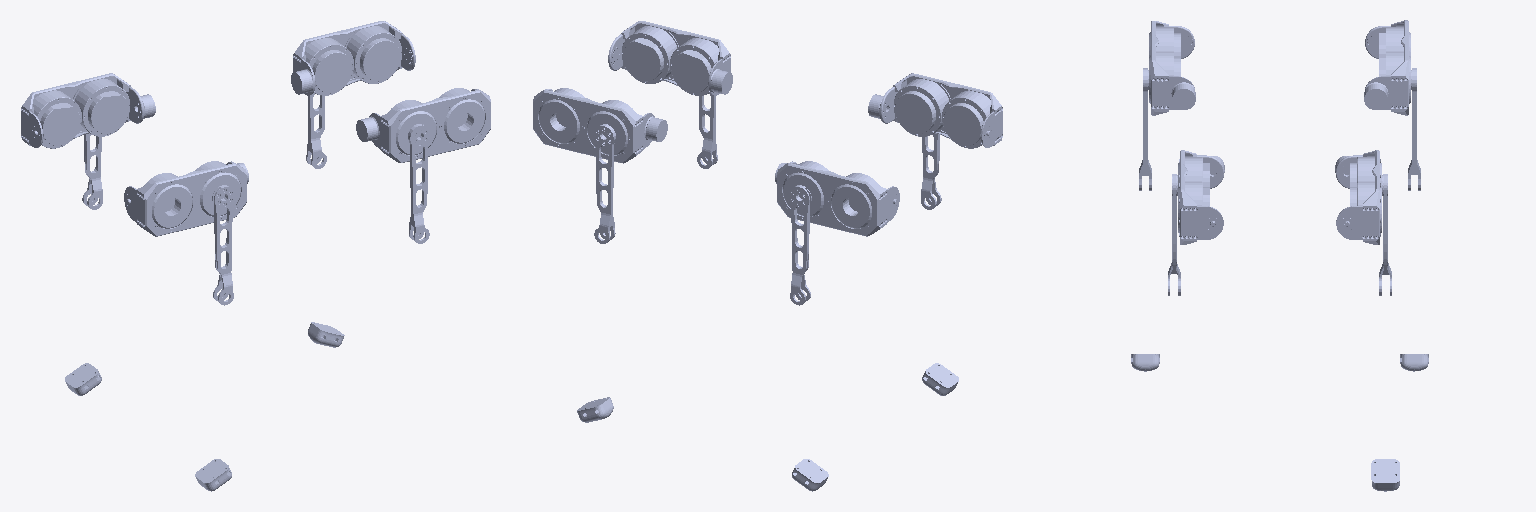
The robot description file, URDF, robot "olympus_description":
<?xml version="1.0" ?>
<robot
  name="olympus_description">

  <link
    name="Body">
    <inertial>
      <origin
        xyz="-0.0093903 0.00018696 0.011109"
        rpy="0 0 0" />
      <mass
        value="5.679" />
      <inertia
        ixx="0.05428615"
        ixy="-0.00110179"
        ixz="-0.0017034"
        iyy="0.15070598"
        iyz="0.00013585"
        izz="0.19574722" />
    </inertial>
    <visual>
      <origin
        xyz="0 0 0"
        rpy="0 0 0" />
      <geometry>
        <mesh
          filename="package://olympus_description/urdf/meshes/Body.STL" />
      </geometry>
      <material
        name="">
        <color
          rgba="0.79216 0.81961 0.93333 1" />
      </material>
    </visual>
    <collision>
      <origin
        xyz="0 0 0"
        rpy="0 0 0" />
      <geometry>
        <mesh
          filename="package://olympus_description/urdf/meshes/Body.STL" />
      </geometry>
    </collision>
  </link>
  



  
  
  <!---

  

  <joint name="world_joint" type="fixed" >
    <origin
          xyz="0 0 0"
          rpy="0 0 0" />
      <parent
        link="world" />
      <child
        link="Body" />
  </joint>
  -->
  
  <link
    name="FrontLeft_motorHousing">
    <inertial>
      <origin
        xyz="0.092829 0.02913 0.00023828"
        rpy="0 0 0" />
      <mass
        value="1.437" />
      <inertia
        ixx="0.00232895"
        ixy="0.00418147"
        ixz="3.194E-05"
        iyy="0.01861991"
        iyz="4.4E-06"
        izz="0.01948836" />
    </inertial>
    <visual>
      <origin
        xyz="0 0 0"
        rpy="0 0 0" />
      <geometry>
        <mesh
          filename="package://olympus_description/urdf/meshes/FrontLeft_motorHousing.STL" />
      </geometry>
      <material
        name="">
        <color
          rgba="0.79216 0.81961 0.93333 1" />
      </material>
    </visual>
    <collision>
      <origin
        xyz="0 0 0"
        rpy="0 0 0" />
      <geometry>
        <mesh
          filename="package://olympus_description/urdf/meshes/FrontLeft_motorHousing.STL" />
      </geometry>
    </collision>
  </link>
  <joint
    name="FrontLeft_motorHousing_hipAduction_motor"
    type="revolute">
    <origin
      xyz="0.143300000000002 0.104999999999997 0"
      rpy="0 0 0" />
    <parent
      link="Body" />
    <child
      link="FrontLeft_motorHousing" />
    <axis
      xyz="-1 0 0" />
    <limit
      lower="-1.57"
      upper="1.57"
      effort="0"
      velocity="0" />
  </joint>
  <link
    name="FrontLeft_hip_inner">
    <inertial>
      <origin
        xyz="-0.00087111 -0.0026375 -0.059532"
        rpy="0 0 0" />
      <mass
        value="0.081" />
      <inertia
        ixx="0.00080743"
        ixy="-7E-08"
        ixz="1.1E-05"
        iyy="0.00081318"
        iyz="-4.71E-06"
        izz="1.0E-3" />
    </inertial>
    <visual>
      <origin
        xyz="0 0 0"
        rpy="0 0 0" />
      <geometry>
        <mesh
          filename="package://olympus_description/urdf/meshes/FrontLeft_hip_inner.STL" />
      </geometry>
      <material
        name="">
        <color
          rgba="0.79216 0.81961 0.93333 1" />
      </material>
    </visual>
    <collision>
      <origin
        xyz="0 0 0"
        rpy="0 0 0" />
      <geometry>
        <mesh
          filename="package://olympus_description/urdf/meshes/FrontLeft_hip_inner.STL" />
      </geometry>
    </collision>
  </link>
  <joint
    name="FrontLeft_hip_inner_motor"
    type="revolute">
    <origin
      xyz="0.051699999999999 0.0594499999999993 -1.1338370204463E-05"
      rpy="0 0 0" />
    <parent
      link="FrontLeft_motorHousing" />
    <child
      link="FrontLeft_hip_inner" />
    <axis
      xyz="0 1 0" />
    <limit
      lower="-1.57"
      upper="1.57"
      effort="0"
      velocity="0" />
  </joint>
  <link
    name="FrontLeft_shank_inner">
    <inertial>
      <origin
        xyz="-0.018257 -5.7848E-07 -0.18193"
        rpy="0 0 0" />
      <mass
        value="0.1993" />
      <inertia
        ixx="0.00799515"
        ixy="-1.3E-07"
        ixz="0.00072855"
        iyy="0.00807089"
        iyz="-1.55E-06"
        izz="1.0E-3" />
    </inertial>
    <visual>
      <origin
        xyz="0 0 0"
        rpy="0 0 0" />
      <geometry>
        <mesh
          filename="package://olympus_description/urdf/meshes/FrontLeft_shank_inner.STL" />
      </geometry>
      <material
        name="">
        <color
          rgba="0.79216 0.81961 0.93333 1" />
      </material>
    </visual>
    <collision>
      <origin
        xyz="0 0 0"
        rpy="0 0 0" />
      <geometry>
        <mesh
          filename="package://olympus_description/urdf/meshes/FrontLeft_shank_inner.STL" />
      </geometry>
    </collision>
  </link>
  <joint
    name="FrontLeft_shank_inner_knee"
    type="revolute">
    <origin
      xyz="0 0.000750000000007855 -0.175000000000014"
      rpy="0 -0.156107447167547 0" />
    <parent
      link="FrontLeft_hip_inner" />
    <child
      link="FrontLeft_shank_inner" />
    <axis
      xyz="0 1 0" />
    <limit
      lower="-1.57"
      upper="1.57"
      effort="0"
      velocity="0" />
  </joint>
  <link
    name="FrontLeft_paw">
    <inertial>
      <origin
        xyz="-0.00016141 -2.5484E-07 0.0013973"
        rpy="0 0 0" />
      <mass
        value="0.02" />
      <inertia
        ixx="3.73E-06"
        ixy="-2.6396E-10"
        ixz="-2E-08"
        iyy="4.78E-06"
        iyz="-7.8092E-11"
        izz="1.0E-3" />
    </inertial>
    <visual>
      <origin
        xyz="0 0 0"
        rpy="0 0 0" />
      <geometry>
        <mesh
          filename="package://olympus_description/urdf/meshes/FrontLeft_paw.STL" />
      </geometry>
      <material
        name="">
        <color
          rgba="0.79216 0.81961 0.93333 1" />
      </material>
    </visual>
    <collision>
      <origin
        xyz="0 0 0"
        rpy="0 0 0" />
      <geometry>
        <mesh
          filename="package://olympus_description/urdf/meshes/FrontLeft_paw.STL" />
      </geometry>
    </collision>
  </link>
  <joint
    name="FrontLeft_paw_joint"
    type="fixed">
    <origin
      xyz="-0.034316172849209 0 -0.318287120023731"
      rpy="0 -0.587745839939292 3.14159265358979" />
    <parent
      link="FrontLeft_shank_inner" />
    <child
      link="FrontLeft_paw" />
    <axis
      xyz="0 0 0" />
  </joint>

  <link
    name="FrontRight_motorHousing">
    <inertial>
      <origin
        xyz="0.092829 -0.02913 -0.00023828"
        rpy="0 0 0" />
      <mass
        value="1.4374" />
      <inertia
        ixx="0.00232895"
        ixy="-0.00418147"
        ixz="-3.194E-05"
        iyy="0.01861991"
        iyz="4.4E-06"
        izz="0.01948836" />
    </inertial>
    <visual>
      <origin
        xyz="0 0 0"
        rpy="0 0 0" />
      <geometry>
        <mesh
          filename="package://olympus_description/urdf/meshes/FrontRight_motorHousing.STL" />
      </geometry>
      <material
        name="">
        <color
          rgba="0.79216 0.81961 0.93333 1" />
      </material>
    </visual>
    <collision>
      <origin
        xyz="0 0 0"
        rpy="0 0 0" />
      <geometry>
        <mesh
          filename="package://olympus_description/urdf/meshes/FrontRight_motorHousing.STL" />
      </geometry>
    </collision>
  </link>
  <joint
    name="FrontRight_motorHousing_hipAduction_motor"
    type="revolute">
    <origin
      xyz="0.143300000000001 -0.104999999999999 0"
      rpy="0 0 0" />
    <parent
      link="Body" />
    <child
      link="FrontRight_motorHousing" />
    <axis
      xyz="-1 0 0" />
    <limit
      lower="-1.57"
      upper="1.57"
      effort="0"
      velocity="0" />
  </joint>
  <link
    name="FrontRight_hip_inner">
    <inertial>
      <origin
        xyz="-0.00087097 0.0026333 -0.059284"
        rpy="0 0 0" />
      <mass
        value="0.081" />
      <inertia
        ixx="0.00080451"
        ixy="7E-08"
        ixz="1.098E-05"
        iyy="0.00081035"
        iyz="4.68E-06"
        izz="1.0E-3" />
    </inertial>
    <visual>
      <origin
        xyz="0 0 0"
        rpy="0 0 0" />
      <geometry>
        <mesh
          filename="package://olympus_description/urdf/meshes/FrontRight_hip_inner.STL" />
      </geometry>
      <material
        name="">
        <color
          rgba="0.79216 0.81961 0.93333 1" />
      </material>
    </visual>
    <collision>
      <origin
        xyz="0 0 0"
        rpy="0 0 0" />
      <geometry>
        <mesh
          filename="package://olympus_description/urdf/meshes/FrontRight_hip_inner.STL" />
      </geometry>
    </collision>
  </link>
  <joint
    name="FrontRight_hip_inner_motor"
    type="revolute">
    <origin
      xyz="0.0517000000000003 -0.0594500000000019 1.13383701956029E-05"
      rpy="0 0 0" />
    <parent
      link="FrontRight_motorHousing" />
    <child
      link="FrontRight_hip_inner" />
    <axis
      xyz="0 1 0" />
    <limit
      lower="-1.57"
      upper="1.57"
      effort="0"
      velocity="0" />
  </joint>
  <link
    name="FrontRight_shank_inner">
    <inertial>
      <origin
        xyz="-0.018257 -5.8199E-07 -0.18193"
        rpy="0 0 0" />
      <mass
        value="0.1992" />
      <inertia
        ixx="0.00799515"
        ixy="-1.3E-07"
        ixz="0.00072855"
        iyy="0.00807089"
        iyz="-1.55E-06"
        izz="1.0E-3" />
    </inertial>
    <visual>
      <origin
        xyz="0 0 0"
        rpy="0 0 0" />
      <geometry>
        <mesh
          filename="package://olympus_description/urdf/meshes/FrontRight_shank_inner.STL" />
      </geometry>
      <material
        name="">
        <color
          rgba="0.79216 0.81961 0.93333 1" />
      </material>
    </visual>
    <collision>
      <origin
        xyz="0 0 0"
        rpy="0 0 0" />
      <geometry>
        <mesh
          filename="package://olympus_description/urdf/meshes/FrontRight_shank_inner.STL" />
      </geometry>
    </collision>
  </link>
  <joint
    name="FrontRight_shank_inner_knee"
    type="revolute">
    <origin
      xyz="0 -0.000749999999992201 -0.174999999999991"
      rpy="0 -0.156107447167536 0" />
    <parent
      link="FrontRight_hip_inner" />
    <child
      link="FrontRight_shank_inner" />
    <axis
      xyz="0 1 0" />
    <limit
      lower="-1.57"
      upper="1.57"
      effort="0"
      velocity="0" />
  </joint>
  <link
    name="FrontRight_paw">
    <inertial>
      <origin
        xyz="-0.00016141 -2.5484E-07 0.0013973"
        rpy="0 0 0" />
      <mass
        value="0.02" />
      <inertia
        ixx="3.73E-06"
        ixy="0"
        ixz="-2E-08"
        iyy="4.78E-06"
        iyz="0"
        izz="6.37E-06" />
    </inertial>
    <visual>
      <origin
        xyz="0 0 0"
        rpy="0 0 0" />
      <geometry>
        <mesh
          filename="package://olympus_description/urdf/meshes/FrontRight_paw.STL" />
      </geometry>
      <material
        name="">
        <color
          rgba="0.79216 0.81961 0.93333 1" />
      </material>
    </visual>
    <collision>
      <origin
        xyz="0 0 0"
        rpy="0 0 0" />
      <geometry>
        <mesh
          filename="package://olympus_description/urdf/meshes/FrontRight_paw.STL" />
      </geometry>
    </collision>
  </link>
  <joint
    name="FrontRight_paw_joint"
    type="fixed">
    <origin
      xyz="-0.0343161728492139 0 -0.318287120023735"
      rpy="0 -0.587745839939292 3.14159265358979" />
    <parent
      link="FrontRight_shank_inner" />
    <child
      link="FrontRight_paw" />
    <axis
      xyz="0 0 0" />
  </joint>
  <link
    name="BackLeft_motorHousing">
    <inertial>
      <origin
        xyz="-0.092829 0.02913 -0.00023828"
        rpy="0 0 0" />
      <mass
        value="1.437" />
      <inertia
        ixx="0.00232895"
        ixy="-0.00418147"
        ixz="3.194E-05"
        iyy="0.01861991"
        iyz="-4.4E-06"
        izz="0.01948836" />
    </inertial>
    <visual>
      <origin
        xyz="0 0 0"
        rpy="0 0 0" />
      <geometry>
        <mesh
          filename="package://olympus_description/urdf/meshes/BackLeft_motorHousing.STL" />
      </geometry>
      <material
        name="">
        <color
          rgba="0.79216 0.81961 0.93333 1" />
      </material>
    </visual>
    <collision>
      <origin
        xyz="0 0 0"
        rpy="0 0 0" />
      <geometry>
        <mesh
          filename="package://olympus_description/urdf/meshes/BackLeft_motorHousing.STL" />
      </geometry>
    </collision>
  </link>
  <joint
    name="BackLeft_motorHousing_hipAduction_motor"
    type="revolute">
    <origin
      xyz="-0.143300000000002 0.149999999999995 0"
      rpy="0 0 0" />
    <parent
      link="Body" />
    <child
      link="BackLeft_motorHousing" />
    <axis
      xyz="1 0 0" />
    <limit
      lower="-1.57"
      upper="1.57"
      effort="0"
      velocity="0" />
  </joint>
  <link
    name="BackLeft_hip_inner">
    <inertial>
      <origin
        xyz="0.00087097 -0.0026333 -0.059284"
        rpy="0 0 0" />
      <mass
        value="0.081" />
      <inertia
        ixx="0.00080451"
        ixy="7E-08"
        ixz="-1.097E-05"
        iyy="0.00081035"
        iyz="-4.68E-06"
        izz="1.0E-3" />
    </inertial>
    <visual>
      <origin
        xyz="0 0 0"
        rpy="0 0 0" />
      <geometry>
        <mesh
          filename="package://olympus_description/urdf/meshes/BackLeft_hip_inner.STL" />
      </geometry>
      <material
        name="">
        <color
          rgba="0.79216 0.81961 0.93333 1" />
      </material>
    </visual>
    <collision>
      <origin
        xyz="0 0 0"
        rpy="0 0 0" />
      <geometry>
        <mesh
          filename="package://olympus_description/urdf/meshes/BackLeft_hip_inner.STL" />
      </geometry>
    </collision>
  </link>
  <joint
    name="BackLeft_hip_inner_motor"
    type="revolute">
    <origin
      xyz="-0.0516999999999978 0.0594500000000004 1.13383700547322E-05"
      rpy="0 0 0" />
    <parent
      link="BackLeft_motorHousing" />
    <child
      link="BackLeft_hip_inner" />
    <axis
      xyz="0 -1 0" />
    <limit
      lower="-1.57"
      upper="1.57"
      effort="0"
      velocity="0" />
  </joint>
  <link
    name="BackLeft_shank_inner">
    <inertial>
      <origin
        xyz="0.018257 5.8939E-07 -0.18193"
        rpy="0 0 0" />
      <mass
        value="0.1993" />
      <inertia
        ixx="0.00799515"
        ixy="-1.3E-07"
        ixz="-0.00072855"
        iyy="0.00807089"
        iyz="1.55E-06"
        izz="1.0E-3" />
    </inertial>
    <visual>
      <origin
        xyz="0 0 0"
        rpy="0 0 0" />
      <geometry>
        <mesh
          filename="package://olympus_description/urdf/meshes/BackLeft_shank_inner.STL" />
      </geometry>
      <material
        name="">
        <color
          rgba="0.79216 0.81961 0.93333 1" />
      </material>
    </visual>
    <collision>
      <origin
        xyz="0 0 0"
        rpy="0 0 0" />
      <geometry>
        <mesh
          filename="package://olympus_description/urdf/meshes/BackLeft_shank_inner.STL" />
      </geometry>
    </collision>
  </link>
  <joint
    name="BackLeft_shank_inner_knee"
    type="revolute">
    <origin
      xyz="0 0.000749999999984485 -0.174999999999858"
      rpy="0 0.156107447167218 0" />
    <parent
      link="BackLeft_hip_inner" />
    <child
      link="BackLeft_shank_inner" />
    <axis
      xyz="0 1 0" />
    <limit
      lower="-1.57"
      upper="1.57"
      effort="0"
      velocity="0" />
  </joint>
  <link
    name="BackLeft_paw">
    <inertial>
      <origin
        xyz="0.00016141 2.5484E-07 0.0013973"
        rpy="0 0 0" />
      <mass
        value="0.02" />
      <inertia
        ixx="1.236E-05"
        ixy="0"
        ixz="5E-08"
        iyy="1.587E-05"
        iyz="0"
        izz="1.0E-3" />
    </inertial>
    <visual>
      <origin
        xyz="0 0 0"
        rpy="0 0 0" />
      <geometry>
        <mesh
          filename="package://olympus_description/urdf/meshes/BackLeft_paw.STL" />
      </geometry>
      <material
        name="">
        <color
          rgba="0.79216 0.81961 0.93333 1" />
      </material>
    </visual>
    <collision>
      <origin
        xyz="0 0 0"
        rpy="0 0 0" />
      <geometry>
        <mesh
          filename="package://olympus_description/urdf/meshes/BackLeft_paw.STL" />
      </geometry>
    </collision>
  </link>
  <joint
    name="BackLeft_paw_joint"
    type="fixed">
    <origin
      xyz="0.0343161728493504 0 -0.318287120023714"
      rpy="0 0.587745839939292 -3.14159265358976" />
    <parent
      link="BackLeft_shank_inner" />
    <child
      link="BackLeft_paw" />
    <axis
      xyz="0 0 0" />
  </joint>
  <link
    name="BackRight_motorHousing">
    <inertial>
      <origin
        xyz="-0.092829 -0.02913 0.00023828"
        rpy="0 0 0" />
      <mass
        value="1.437" />
      <inertia
        ixx="0.00232895"
        ixy="0.00418147"
        ixz="-3.194E-05"
        iyy="0.01861991"
        iyz="-4.4E-06"
        izz="0.01948836" />
    </inertial>
    <visual>
      <origin
        xyz="0 0 0"
        rpy="0 0 0" />
      <geometry>
        <mesh
          filename="package://olympus_description/urdf/meshes/BackRight_motorHousing.STL" />
      </geometry>
      <material
        name="">
        <color
          rgba="0.79216 0.81961 0.93333 1" />
      </material>
    </visual>
    <collision>
      <origin
        xyz="0 0 0"
        rpy="0 0 0" />
      <geometry>
        <mesh
          filename="package://olympus_description/urdf/meshes/BackRight_motorHousing.STL" />
      </geometry>
    </collision>
  </link>
  <joint
    name="BackRight_motorHousing_hipAduction_motor12"
    type="revolute">
    <origin
      xyz="-0.1433 -0.150000000000002 0"
      rpy="0 0 0" />
    <parent
      link="Body" />
    <child
      link="BackRight_motorHousing" />
    <axis
      xyz="1 0 0" />
    <limit
      lower="-1.57"
      upper="1.57"
      effort="0"
      velocity="0" />
  </joint>
  <link
    name="BackRight_hip_inner">
    <inertial>
      <origin
        xyz="0.00087111 0.0026375 -0.059532"
        rpy="0 0 0" />
      <mass
        value="0.0805" />
      <inertia
        ixx="0.00080743"
        ixy="-7E-08"
        ixz="-1.1E-05"
        iyy="0.00081318"
        iyz="4.71E-06"
        izz="1.0E-3" />
    </inertial>
    <visual>
      <origin
        xyz="0 0 0"
        rpy="0 0 0" />
      <geometry>
        <mesh
          filename="package://olympus_description/urdf/meshes/BackRight_hip_inner.STL" />
      </geometry>
      <material
        name="">
        <color
          rgba="0.79216 0.81961 0.93333 1" />
      </material>
    </visual>
    <collision>
      <origin
        xyz="0 0 0"
        rpy="0 0 0" />
      <geometry>
        <mesh
          filename="package://olympus_description/urdf/meshes/BackRight_hip_inner.STL" />
      </geometry>
    </collision>
  </link>
  <joint
    name="BackRight_hip_inner_motor11"
    type="revolute">
    <origin
      xyz="-0.0517000000000002 -0.0594500000000022 -1.1338370431546E-05"
      rpy="0 0 0" />
    <parent
      link="BackRight_motorHousing" />
    <child
      link="BackRight_hip_inner" />
    <axis
      xyz="0 1 0" />
    <limit
      lower="-1.57"
      upper="1.57"
      effort="0"
      velocity="0" />
  </joint>
  <link
    name="BackRight_shank_inner">
    <inertial>
      <origin
        xyz="0.018257 5.8084E-07 -0.18193"
        rpy="0 0 0" />
      <mass
        value="0.1993" />
      <inertia
        ixx="0.00799515"
        ixy="-1.3E-07"
        ixz="-0.00072855"
        iyy="0.00807089"
        iyz="1.55E-06"
        izz="1.0E-3" />
    </inertial>
    <visual>
      <origin
        xyz="0 0 0"
        rpy="0 0 0" />
      <geometry>
        <mesh
          filename="package://olympus_description/urdf/meshes/BackRight_shank_inner.STL" />
      </geometry>
      <material
        name="">
        <color
          rgba="0.79216 0.81961 0.93333 1" />
      </material>
    </visual>
    <collision>
      <origin
        xyz="0 0 0"
        rpy="0 0 0" />
      <geometry>
        <mesh
          filename="package://olympus_description/urdf/meshes/BackRight_shank_inner.STL" />
      </geometry>
    </collision>
  </link>
  <joint
    name="BackRight_shank_inner_knee"
    type="revolute">
    <origin
      xyz="0 -0.000749999999271611 -0.174999999999955"
      rpy="0 0.156107447164923 0" />
    <parent
      link="BackRight_hip_inner" />
    <child
      link="BackRight_shank_inner" />
    <axis
      xyz="0 1 0" />
    <limit
      lower="-1.57"
      upper="1.57"
      effort="0"
      velocity="0" />
  </joint>
  <link
    name="BackRight_paw">
    <inertial>
      <origin
        xyz="0.00016141 2.5484E-07 0.0013973"
        rpy="0 0 0" />
      <mass
        value="0.02" />
      <inertia
        ixx="1.245E-05"
        ixy="0"
        ixz="6E-08"
        iyy="1.597E-05"
        iyz="0"
        izz="2.129E-05" />
    </inertial>
    <visual>
      <origin
        xyz="0 0 0"
        rpy="0 0 0" />
      <geometry>
        <mesh
          filename="package://olympus_description/urdf/meshes/BackRight_paw.STL" />
      </geometry>
      <material
        name="">
        <color
          rgba="0.79216 0.81961 0.93333 1" />
      </material>
    </visual>
    <collision>
      <origin
        xyz="0 0 0"
        rpy="0 0 0" />
      <geometry>
        <mesh
          filename="package://olympus_description/urdf/meshes/BackRight_paw.STL" />
      </geometry>
    </collision>
  </link>
  <joint
    name="BackRight_paw_joint"
    type="fixed">
    <origin
      xyz="0.0343161728494181 0 -0.318287120023818"
      rpy="0 0.58774583993929 3.14159265358979" />
    <parent
      link="BackRight_shank_inner" />
    <child
      link="BackRight_paw" />
    <axis
      xyz="0 0 0" />
  </joint>

</robot>

--- What the picture shows (computed from the rendered views, not written in the file) ---
Views: 3 orthographic renders of the robot side by side, from view 1: azimuth 30°, elevation 25°; view 2: azimuth 150°, elevation 25°; view 3: azimuth 270°, elevation 25°.
Model olympus_description with 17 links and 16 joints (12 revolute, 4 fixed), rooted at Body, posed all joints at 0.
Visible links, largest first — view 1: BackLeft_motorHousing, FrontLeft_motorHousing, FrontRight_motorHousing, BackRight_motorHousing, BackRight_hip_inner, FrontRight_hip_inner, BackLeft_hip_inner, FrontLeft_hip_inner, BackLeft_paw, BackRight_paw, FrontLeft_paw; view 2: BackRight_motorHousing, FrontRight_motorHousing, FrontLeft_motorHousing, BackLeft_motorHousing, BackLeft_hip_inner, FrontLeft_hip_inner, BackRight_hip_inner, FrontRight_hip_inner, BackRight_paw, BackLeft_paw, FrontLeft_paw; view 3: BackLeft_motorHousing, BackRight_motorHousing, FrontLeft_motorHousing, FrontRight_motorHousing, FrontLeft_paw, BackRight_hip_inner, BackLeft_hip_inner, FrontLeft_hip_inner, FrontRight_hip_inner.
Link boxes in pixels (bbox=[...]): BackLeft_motorHousing: bbox=[21, 73, 155, 148]; FrontLeft_motorHousing: bbox=[291, 21, 415, 95]; FrontRight_motorHousing: bbox=[356, 88, 490, 162]; BackRight_motorHousing: bbox=[124, 161, 248, 236]; BackRight_hip_inner: bbox=[212, 185, 234, 305]; FrontRight_hip_inner: bbox=[408, 124, 429, 243]; BackLeft_hip_inner: bbox=[82, 133, 102, 209]; FrontLeft_hip_inner: bbox=[306, 93, 326, 168]; BackLeft_paw: bbox=[65, 363, 101, 395]; BackRight_paw: bbox=[195, 459, 231, 491]; FrontLeft_paw: bbox=[308, 322, 344, 347]; BackRight_motorHousing: bbox=[868, 73, 1002, 148]; FrontRight_motorHousing: bbox=[608, 21, 732, 95]; FrontLeft_motorHousing: bbox=[533, 88, 667, 163]; BackLeft_motorHousing: bbox=[775, 161, 899, 236]; BackLeft_hip_inner: bbox=[789, 185, 811, 305]; FrontLeft_hip_inner: bbox=[594, 124, 615, 243]; BackRight_hip_inner: bbox=[921, 133, 941, 209]; FrontRight_hip_inner: bbox=[697, 93, 717, 168]; BackRight_paw: bbox=[922, 363, 958, 395]; BackLeft_paw: bbox=[792, 459, 828, 491]; FrontLeft_paw: bbox=[577, 397, 613, 422]; BackLeft_motorHousing: bbox=[1364, 20, 1410, 115]; BackRight_motorHousing: bbox=[1149, 21, 1195, 115]; FrontLeft_motorHousing: bbox=[1335, 150, 1381, 244]; FrontRight_motorHousing: bbox=[1178, 150, 1224, 244]; FrontLeft_paw: bbox=[1371, 459, 1399, 491]; BackRight_hip_inner: bbox=[1139, 68, 1151, 190]; BackLeft_hip_inner: bbox=[1408, 68, 1420, 190]; FrontLeft_hip_inner: bbox=[1379, 174, 1391, 295]; FrontRight_hip_inner: bbox=[1168, 174, 1180, 295].
Bounding box of the posed robot: 0.677 × 0.4654 × 0.5616 m (x, y, z).
Meshes: 17 distinct files referenced, 11 mesh visuals loaded (11 binary STL); not drawn: 6 (reference not matched to a file when rendering).